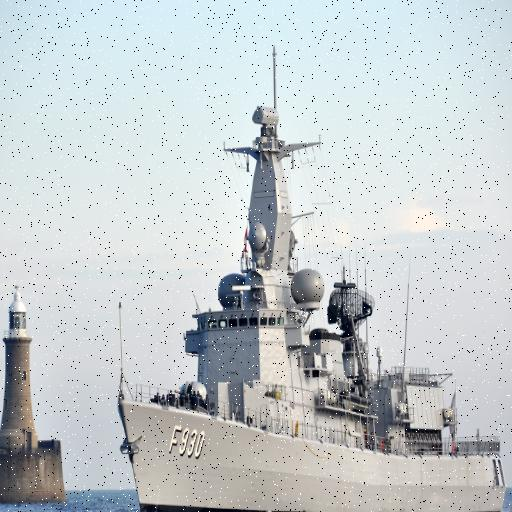Fragata: (115, 42, 511, 512)
